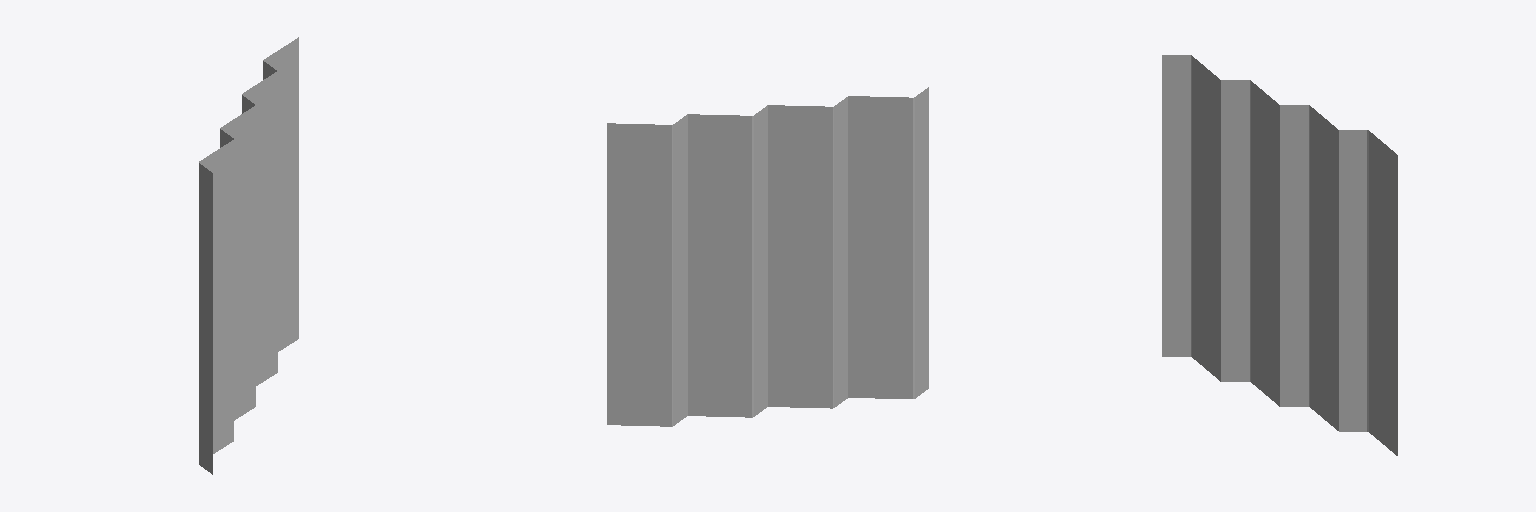
The model's file is kit_40x40m_terrain_004.013.obj.
3 views of the same model, side by side, from view 1: azimuth 30°, elevation 25°; view 2: azimuth 150°, elevation 25°; view 3: azimuth 270°, elevation 25° (orthographic).
Visible parts, largest first — view 1: kit_40x40m_terrain_004.013; view 2: kit_40x40m_terrain_004.013; view 3: kit_40x40m_terrain_004.013.
Part boxes in pixels (x1,y1,x2,y2): kit_40x40m_terrain_004.013: (199,37,298,474); kit_40x40m_terrain_004.013: (607,87,928,426); kit_40x40m_terrain_004.013: (1162,55,1397,455).
Bounding box in the file's own units: 28.28 × 40 × 28.28.